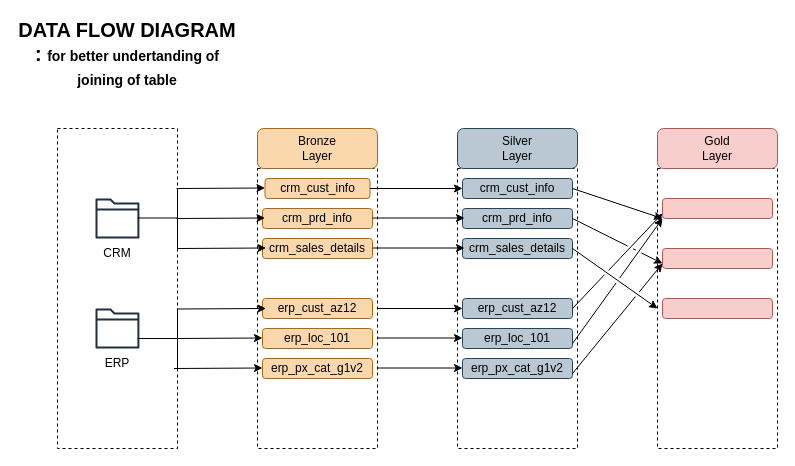
Some shapes in this 795 by 466 pixel diagram are drawn without their labels. The centre of each missing label's shape, as x and y in pixels:
"gold.dim_customers" goes at [717,208].
"gold.dim_products" goes at [717,258].
"gold.fact_sales" goes at [717,308].
